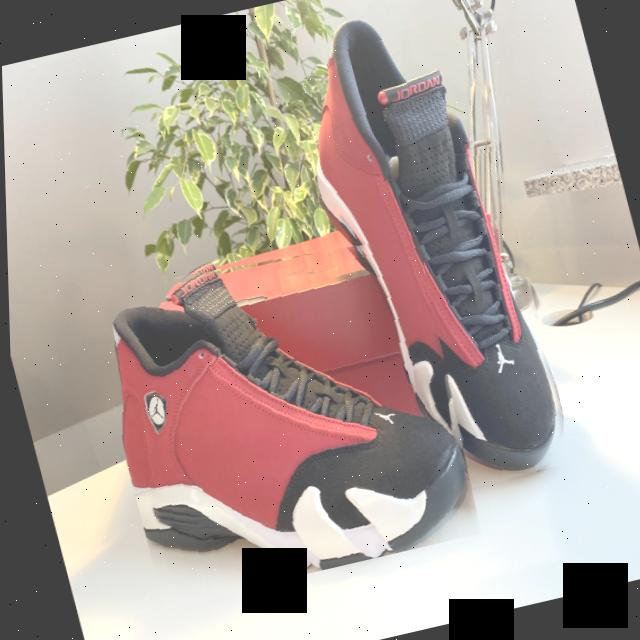shoe: (79, 216, 493, 606), (272, 0, 580, 508)
